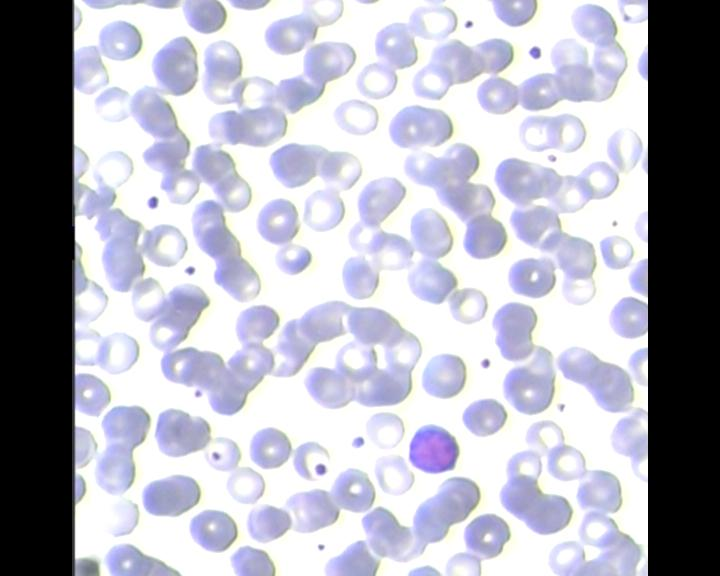lymp: (406, 421, 464, 473)
